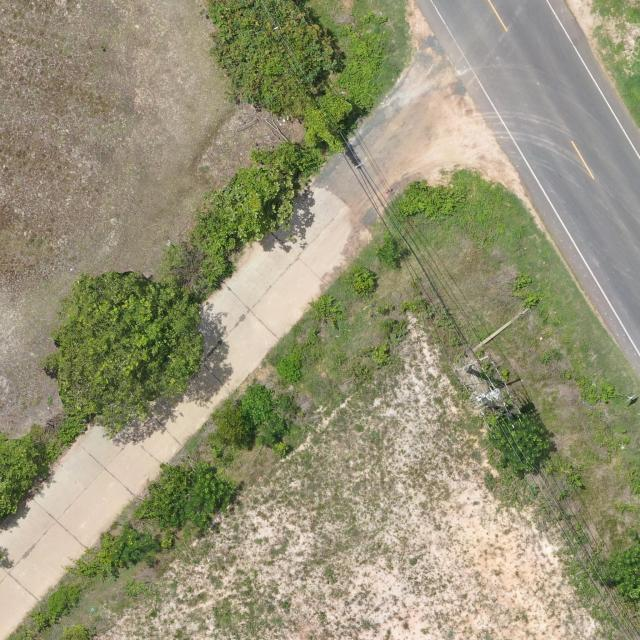Tree: (42, 270, 206, 425), (213, 141, 319, 243), (485, 412, 550, 478), (597, 543, 640, 603)
